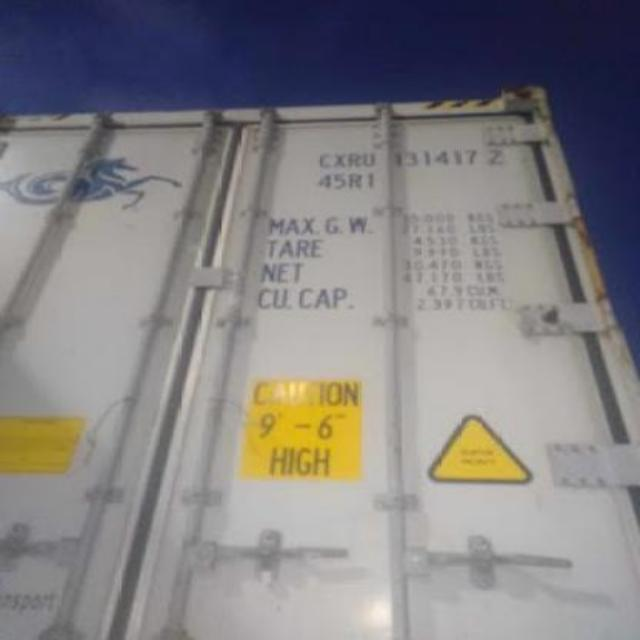1: (388, 147, 404, 171), (421, 147, 434, 171), (451, 145, 464, 169)
2: (486, 142, 506, 168)
3: (404, 143, 420, 173)
4: (434, 144, 452, 170)
7: (464, 144, 480, 168)
C: (310, 146, 332, 170)
R: (344, 146, 360, 168)
U: (362, 148, 380, 170)
X: (334, 148, 346, 170)
